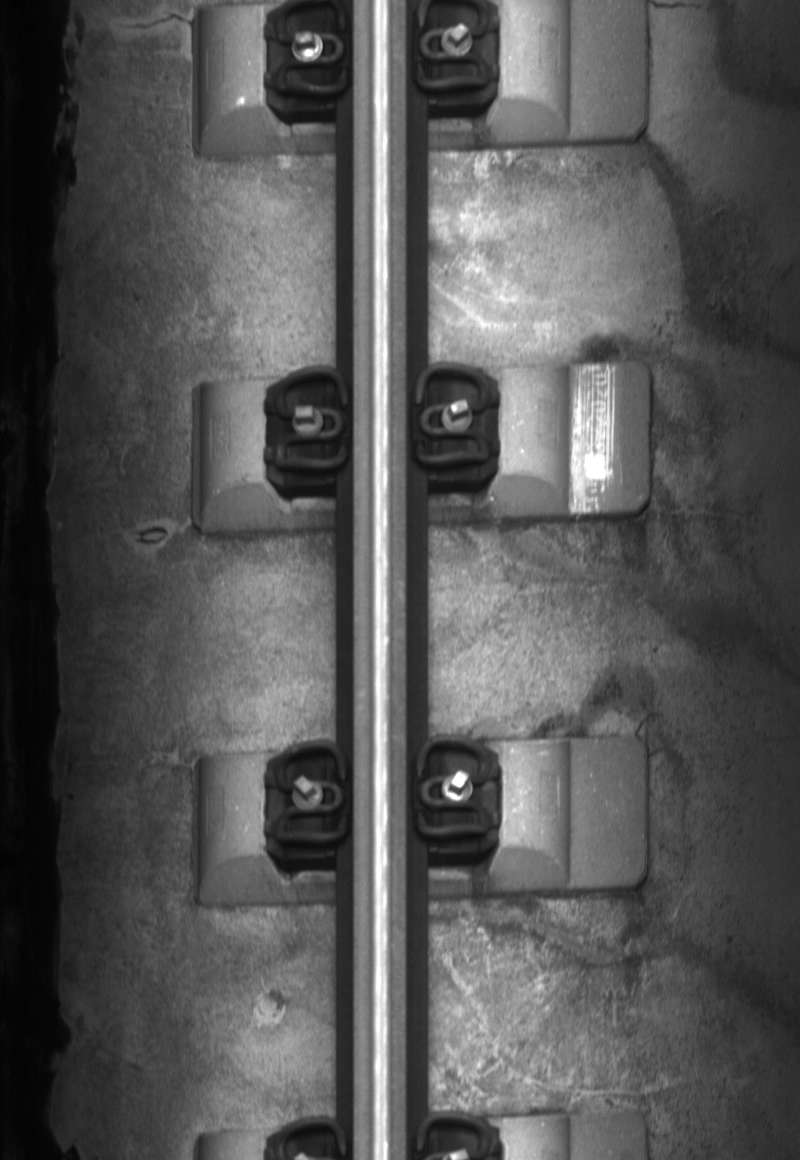l_faster: (269, 735, 353, 850), (267, 363, 353, 473)
r_faster: (410, 359, 494, 471), (412, 733, 494, 840)
